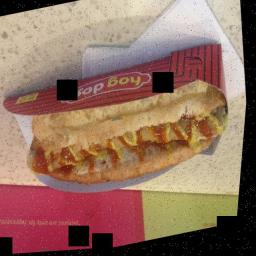hotdog: (20, 62, 234, 204)
